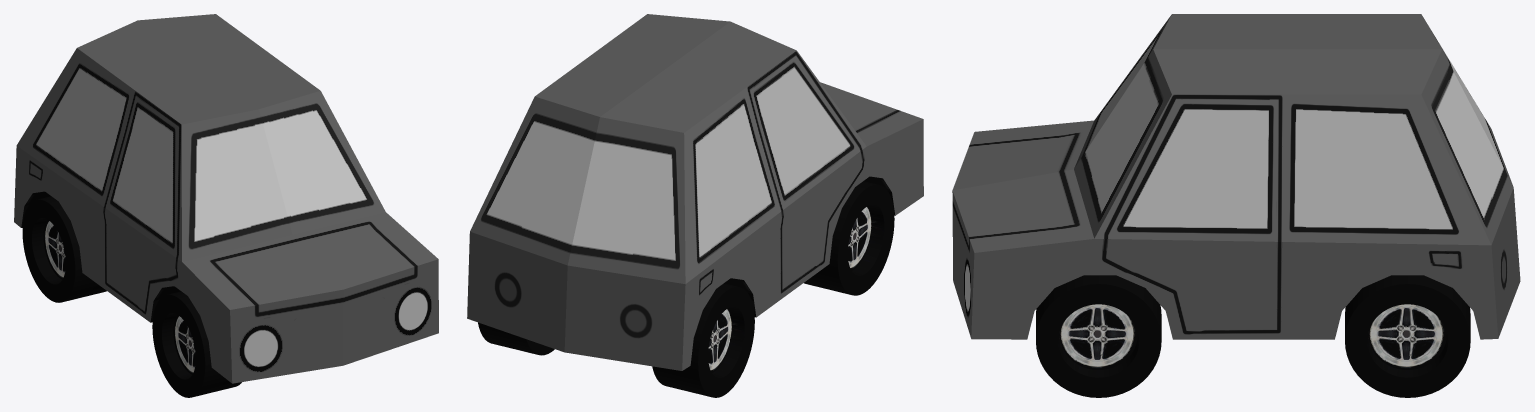
File: car.fbx
3 views of the same model, side by side, from view 1: azimuth 30°, elevation 25°; view 2: azimuth 150°, elevation 25°; view 3: azimuth 270°, elevation 25° (orthographic). The views are drawn at different scales.
Visible parts, largest first — view 1: Car Body, Wheel Back Right, Wheel Front Right; view 2: Car Body, Wheel Back Right, Wheel Front Right, Wheel Back Left; view 3: Car Body, Wheel Back Left, Wheel Front Left.
Boxes of the visible parts, x1,y1,x2,y2 form: Car Body: [14, 14, 438, 383]; Wheel Back Right: [22, 196, 106, 302]; Wheel Front Right: [152, 291, 241, 397]; Car Body: [467, 14, 923, 370]; Wheel Back Right: [652, 283, 754, 397]; Wheel Front Right: [804, 181, 894, 295]; Wheel Back Left: [478, 322, 554, 355]; Car Body: [952, 14, 1520, 339]; Wheel Back Left: [1345, 275, 1470, 397]; Wheel Front Left: [1036, 275, 1161, 397].
Size of the model in its own units: 2.01 by 2.24 by 3.99.
Materials: 2 (2 with a texture image).
